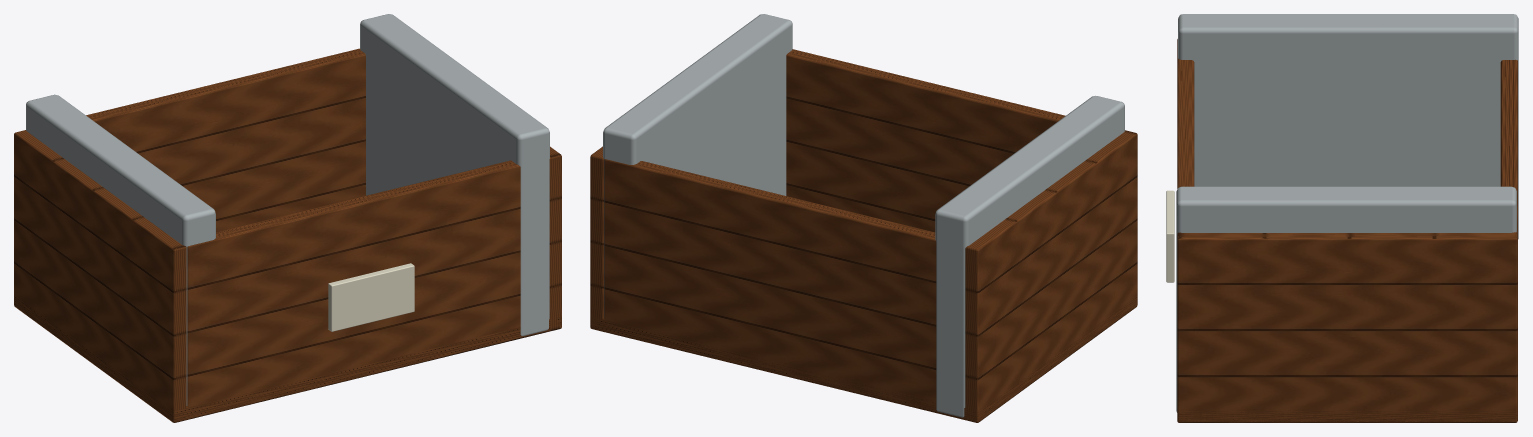
File: prehistoric-expedition-sites-sample-crate-145a6a7b__26126.glb
3 views of the same model, side by side, from view 1: azimuth 30°, elevation 25°; view 2: azimuth 150°, elevation 25°; view 3: azimuth 270°, elevation 25° (orthographic). The views are drawn at different scales.
Visible parts, largest first — view 1: sample-crate; view 2: sample-crate; view 3: sample-crate.
Boxes of the visible parts, <box> form: sample-crate: <box>14,14,561,422</box>; sample-crate: <box>590,14,1137,422</box>; sample-crate: <box>1166,14,1518,422</box>.
Bounding box in the file's own units: 0.7 × 0.35 × 0.5172.
Materials: 3 (1 with a texture image).
